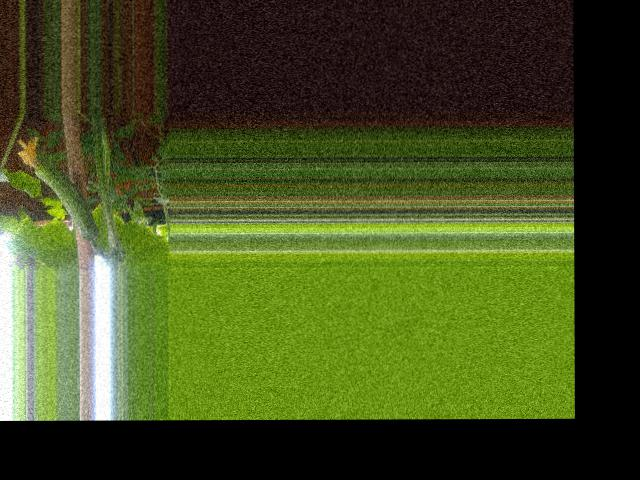cucumber: (16, 135, 97, 240)
